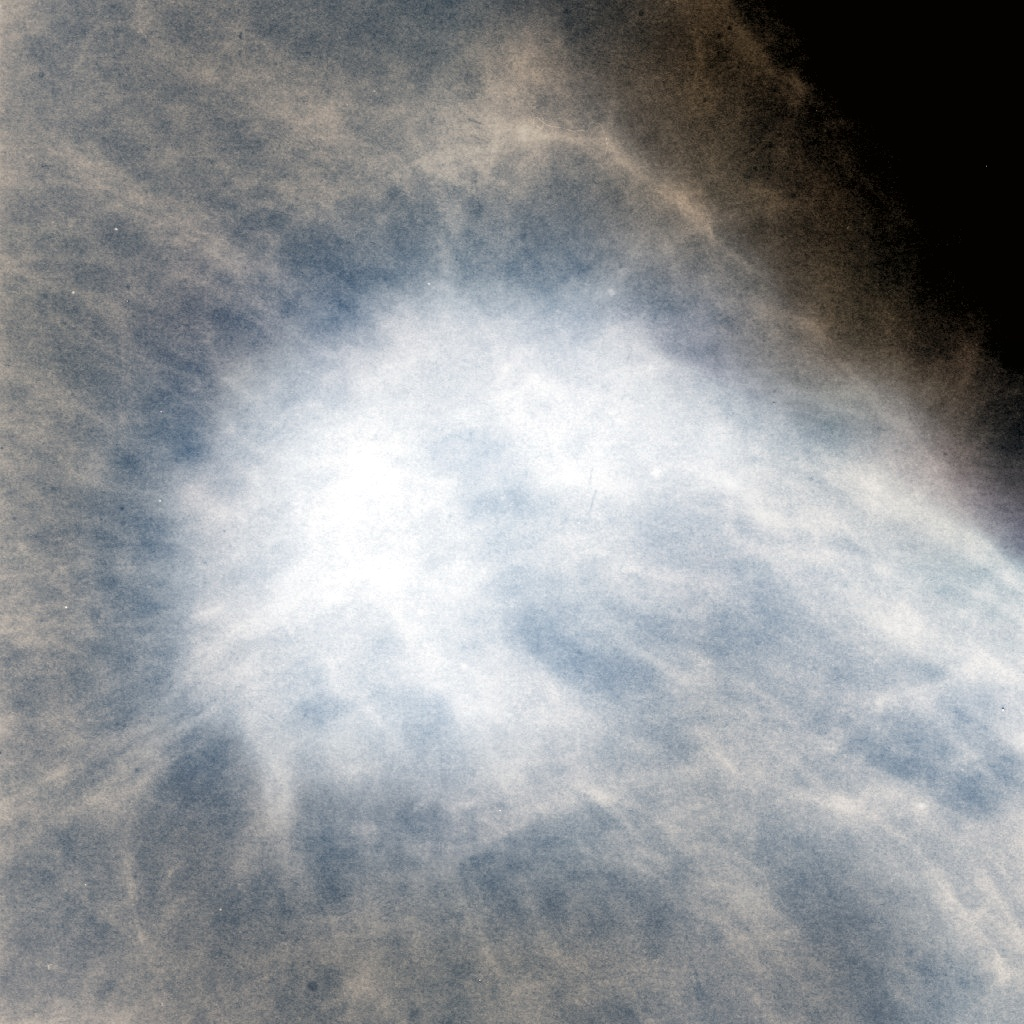tumor: (113, 245, 597, 779)
